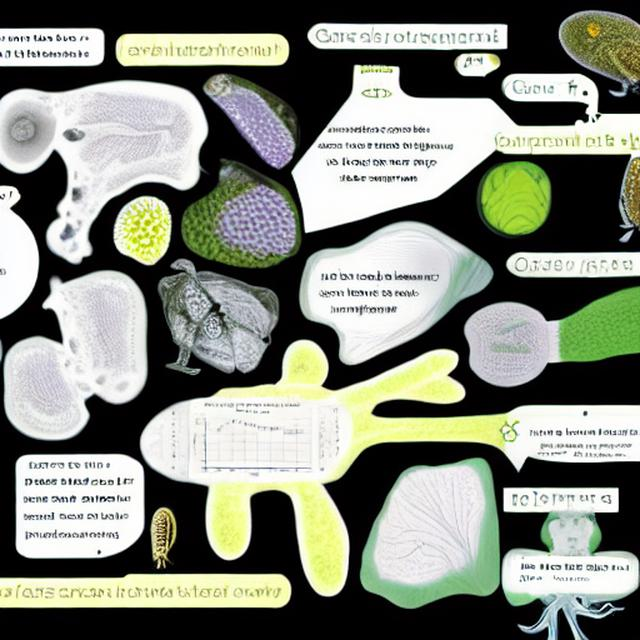Graph: (190, 401, 315, 479)
